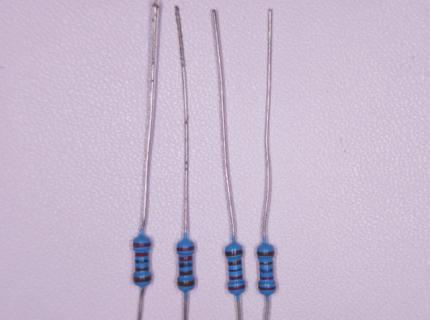Black band: (179, 264, 193, 268), (229, 268, 242, 272), (135, 260, 149, 263), (260, 269, 273, 272)
Brown band: (225, 250, 243, 256), (177, 281, 195, 287), (133, 277, 151, 283), (257, 251, 274, 256), (228, 260, 242, 266), (179, 270, 193, 276), (135, 267, 149, 272), (260, 262, 273, 265)
Red band: (177, 246, 195, 252), (228, 285, 245, 291), (133, 243, 151, 248), (178, 256, 193, 261), (259, 286, 276, 290), (260, 276, 273, 281), (135, 253, 149, 257), (229, 276, 243, 280)
